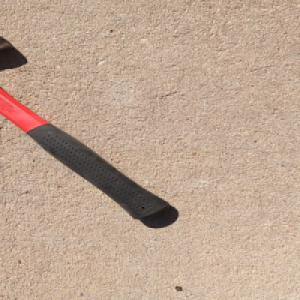Hammer: (0, 31, 177, 222)
